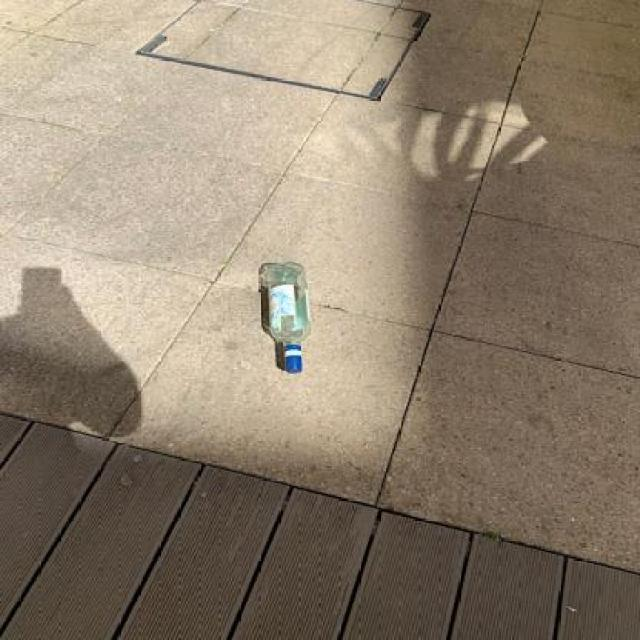trash: (258, 255, 319, 380)
